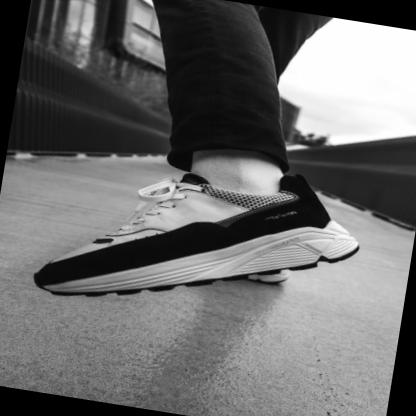ankle: (231, 173, 258, 188)
heel: (317, 229, 334, 241)
pinky: (67, 275, 74, 280)
right_foot: (31, 128, 369, 341)
toe: (67, 254, 73, 260)
